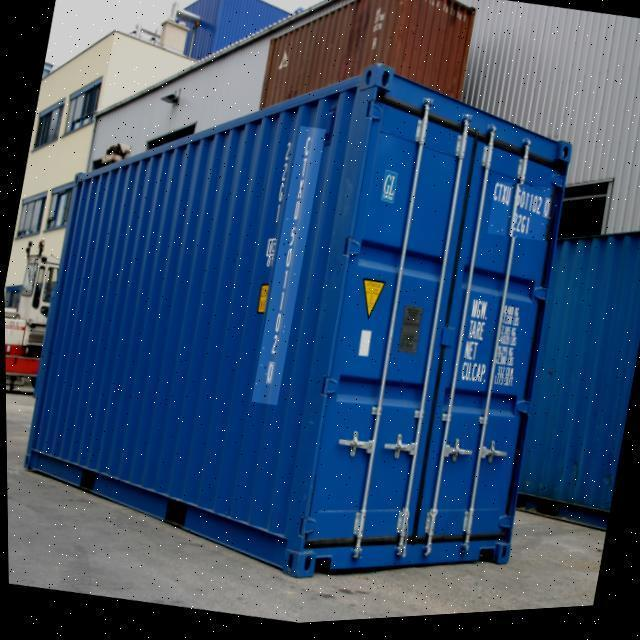container_number_h: (486, 184, 560, 251)
container_number_v: (247, 128, 329, 410)
